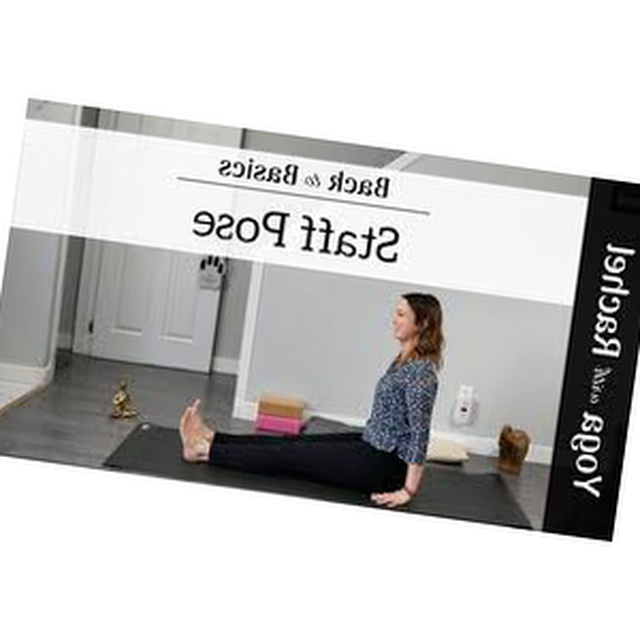Staff_Pose: (179, 291, 446, 509)
